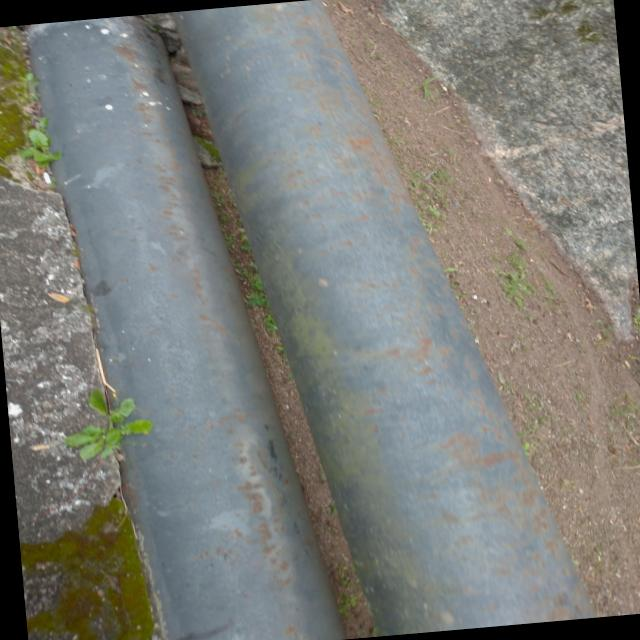gas: (168, 0, 599, 636), (28, 20, 347, 640)
